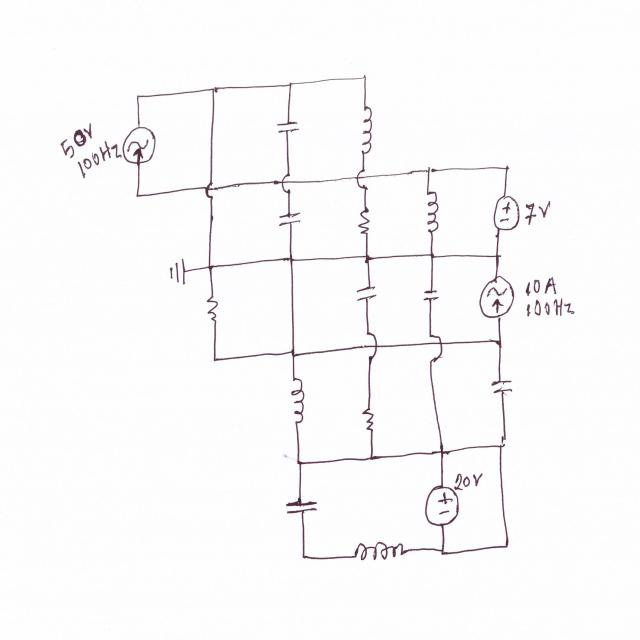capacitor: (282, 495, 322, 522), (488, 372, 514, 405), (270, 116, 304, 140), (354, 281, 379, 306), (276, 209, 304, 229), (420, 285, 443, 309)
current_source: (120, 121, 166, 169), (479, 272, 518, 324)
ground: (164, 254, 193, 293)
inductor: (347, 537, 411, 566), (286, 374, 310, 430), (421, 186, 446, 238), (359, 101, 376, 157)
resistor: (203, 285, 226, 330), (362, 395, 379, 438), (355, 200, 372, 240)
voltage_source: (418, 482, 463, 530), (489, 192, 522, 235)
